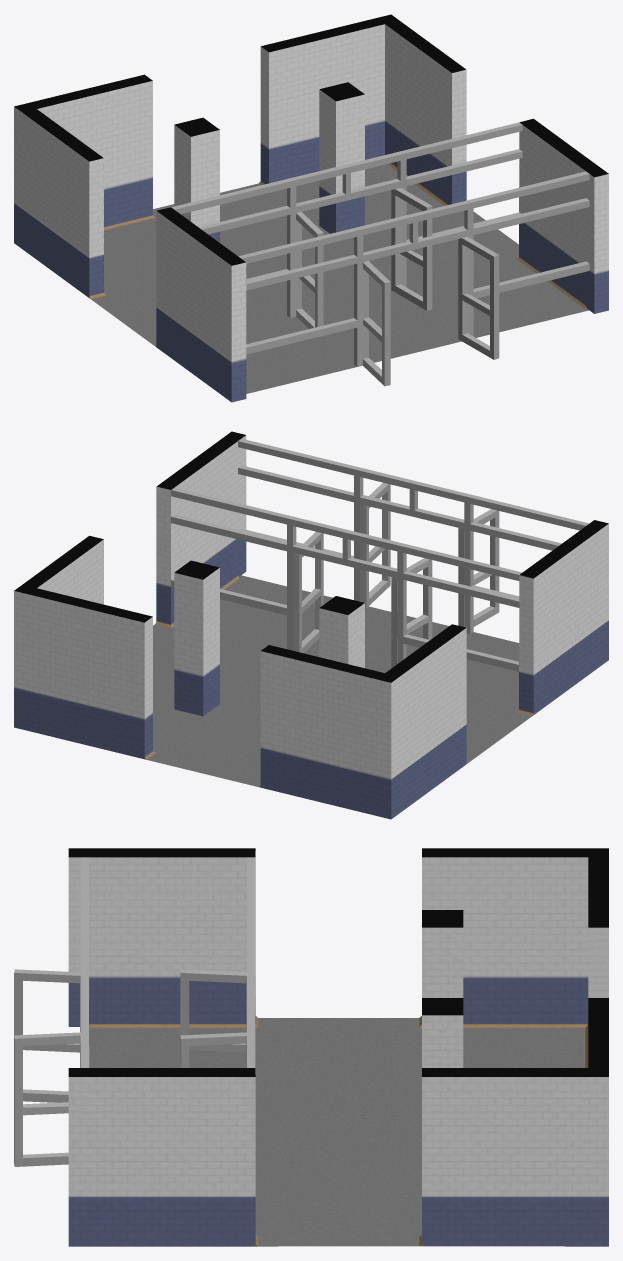
The model's file is entranceHall.glb.
3 views of the same model, one above another, from view 1: azimuth 30°, elevation 25°; view 2: azimuth 150°, elevation 25°; view 3: azimuth 270°, elevation 25° (orthographic). The views are drawn at different scales.
Visible parts, largest first — view 1: basic_hallway.005; view 2: basic_hallway.005; view 3: basic_hallway.005.
Boxes of the visible parts, x1=… form: basic_hallway.005: x1=14, y1=14, x2=608, y2=402; basic_hallway.005: x1=14, y1=431, x2=608, y2=819; basic_hallway.005: x1=14, y1=848, x2=608, y2=1246.
Bounding box in the file's own units: 26 × 9 × 28.62.
1 material, 1 textured.
